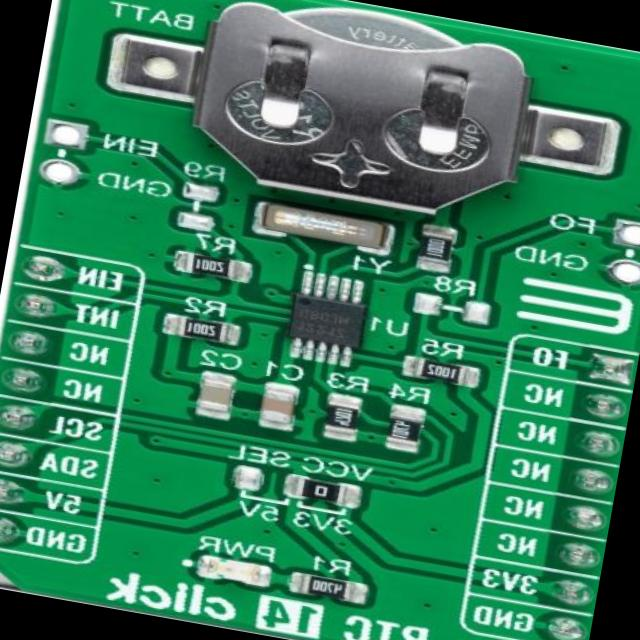IC: (277, 280, 378, 366)
LED: (179, 550, 271, 594)
capacitor: (253, 380, 294, 438), (190, 374, 237, 416)
resistor: (402, 350, 472, 384), (174, 312, 236, 344), (188, 252, 245, 285), (386, 406, 426, 452), (324, 397, 366, 440), (302, 570, 362, 598), (295, 478, 352, 506), (418, 230, 453, 272)
